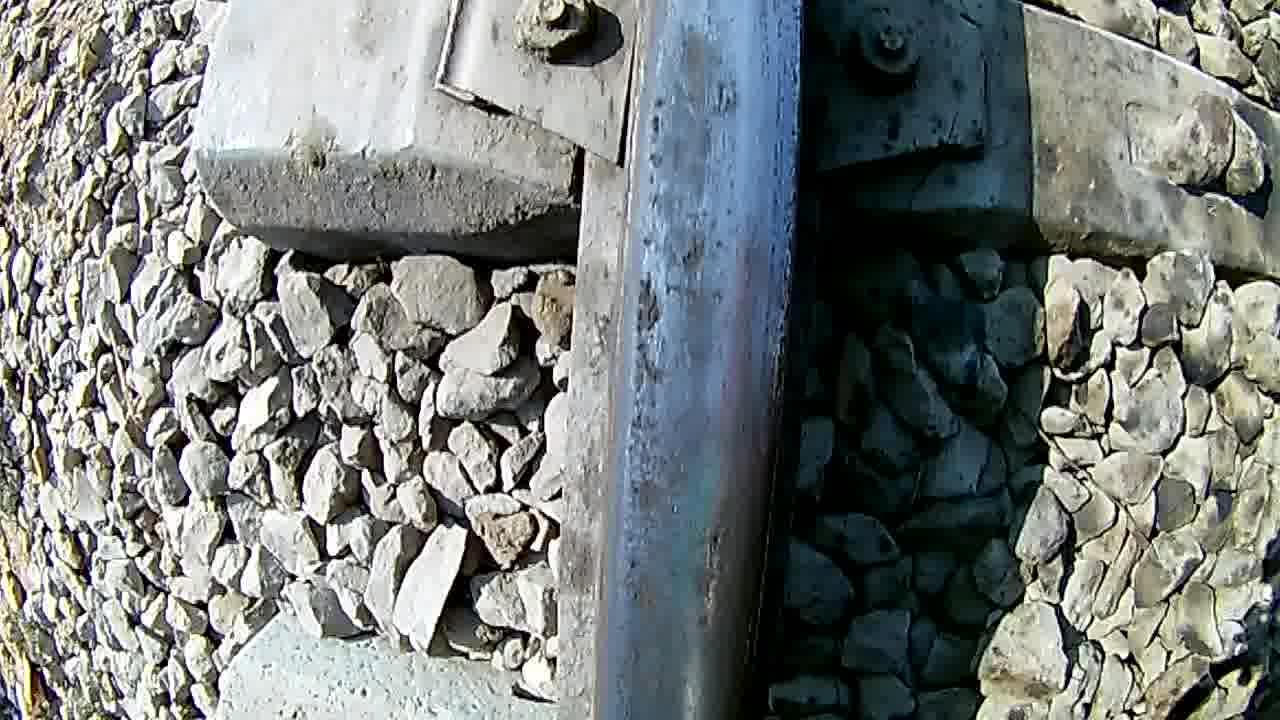crack: (611, 0, 803, 720)
